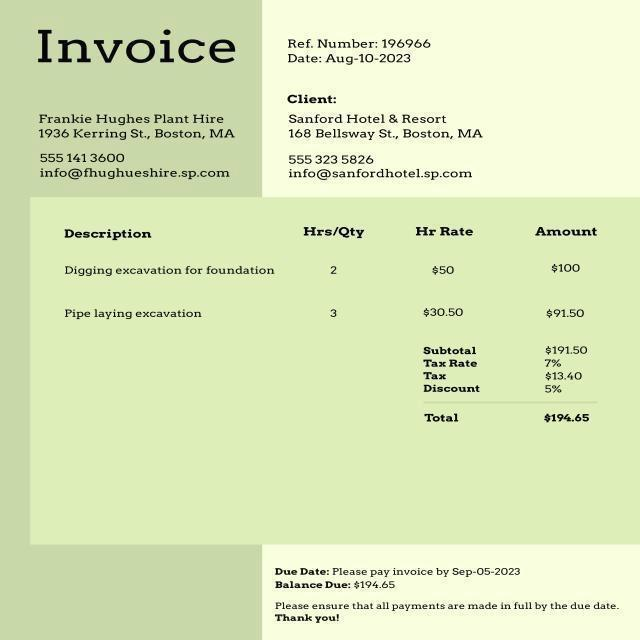paragraph: (283, 88, 497, 191), (29, 103, 250, 192), (419, 344, 609, 431), (24, 20, 250, 82), (268, 600, 623, 628), (285, 28, 449, 75), (270, 567, 528, 579), (270, 581, 403, 595)
table: (35, 209, 604, 334)
